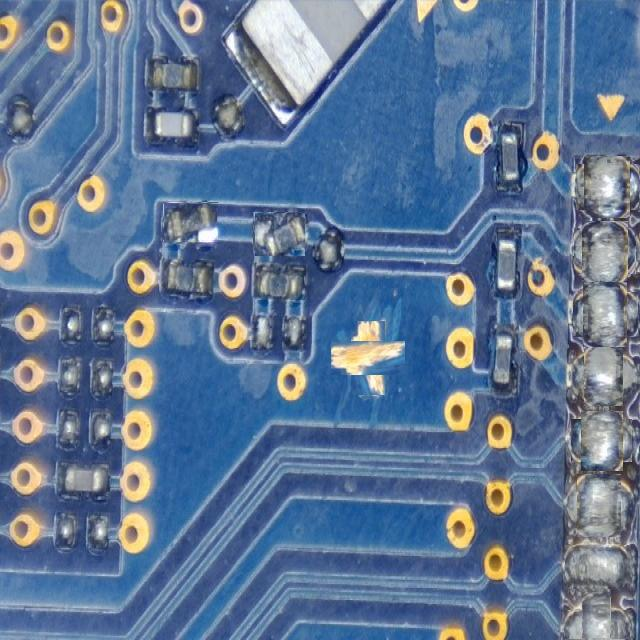Dry_joint: (582, 220, 628, 282), (583, 282, 626, 347), (566, 545, 628, 589), (585, 156, 629, 218), (578, 474, 621, 537), (581, 411, 623, 470), (584, 345, 623, 406), (582, 592, 611, 639)
Incorrect_installation: (254, 212, 305, 256), (163, 203, 218, 241)
